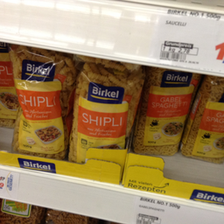pasta: (67, 66, 143, 163), (8, 46, 70, 157), (137, 68, 198, 155), (181, 76, 223, 162)
